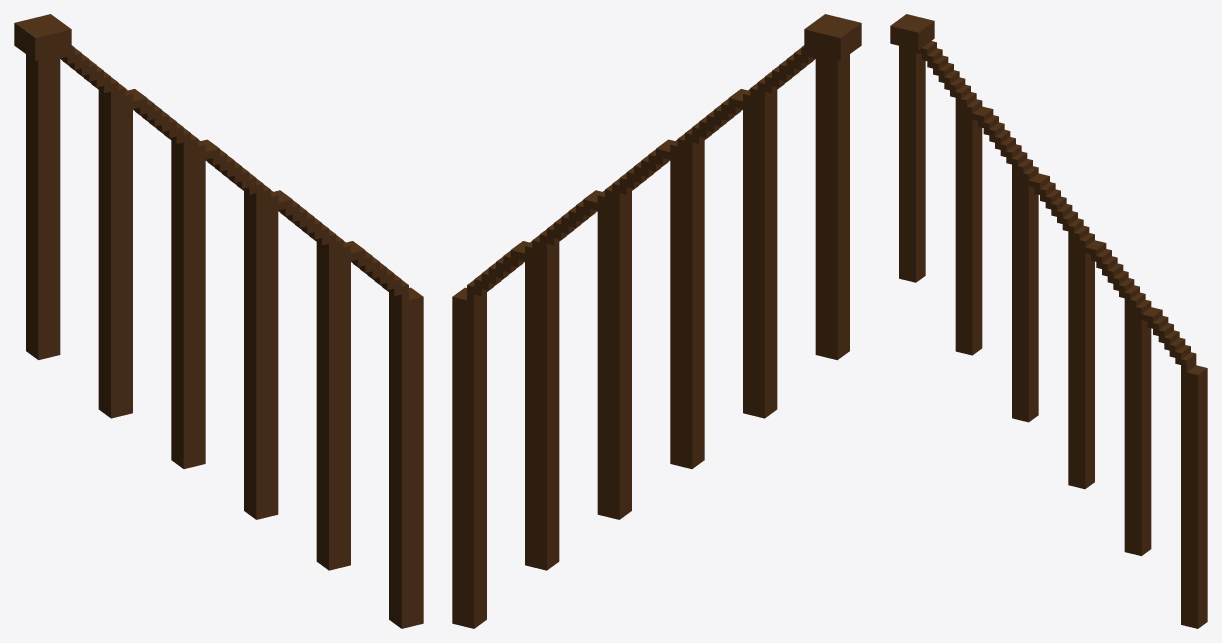
Rendered from SchoolPack-28-railing.obj.
3 views of the same model, side by side, from view 1: azimuth 30°, elevation 25°; view 2: azimuth 150°, elevation 25°; view 3: azimuth 330°, elevation 25° (orthographic). The views are drawn at different scales.
Visible parts, largest first — view 1: railing; view 2: railing; view 3: railing.
Part boxes in pixels (left/top/right/bottom): railing: left=14, top=14, right=423, bottom=628; railing: left=452, top=14, right=861, bottom=628; railing: left=890, top=14, right=1207, bottom=628.
Bounding box in the file's own units: 5.4 × 9 × 0.5.
1 material, 1 textured.
